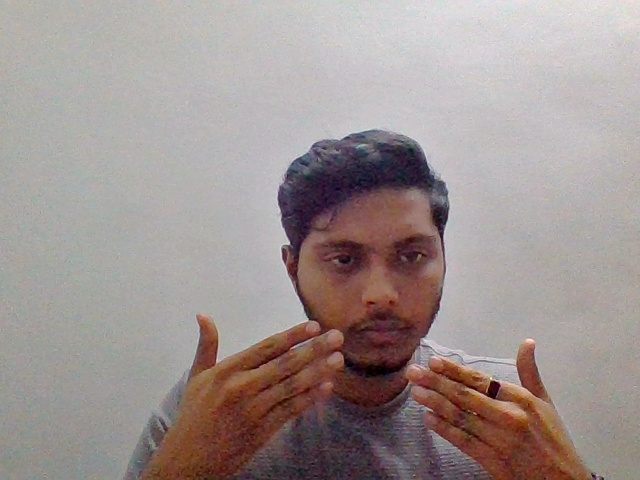Thanks: (172, 306, 606, 480)
